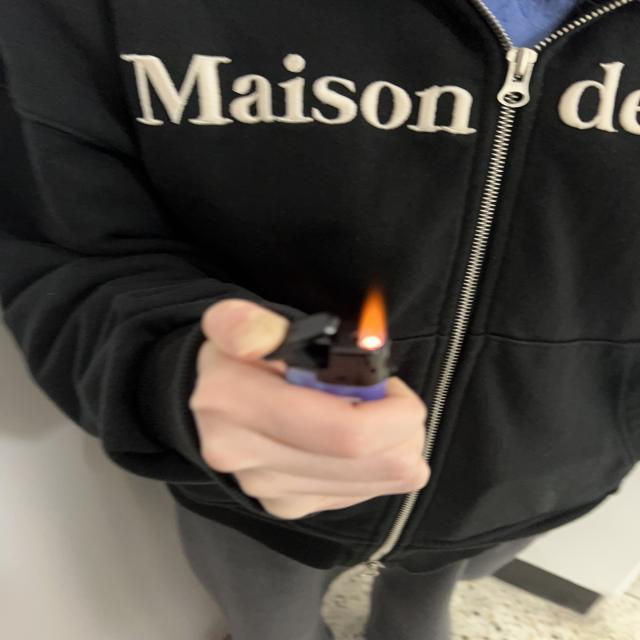fire: (358, 286, 388, 352)
